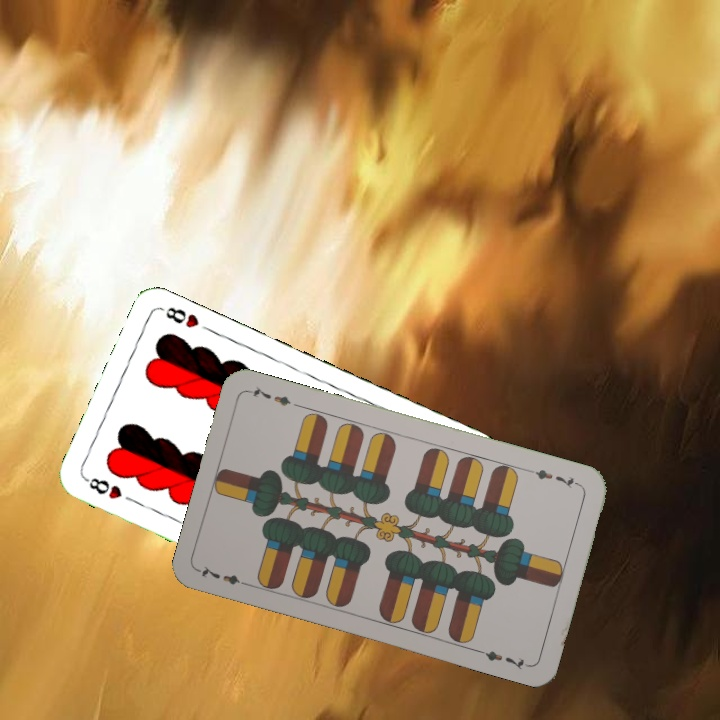E7: (195, 561, 253, 590), (530, 465, 583, 492)
H8: (81, 473, 125, 502)
